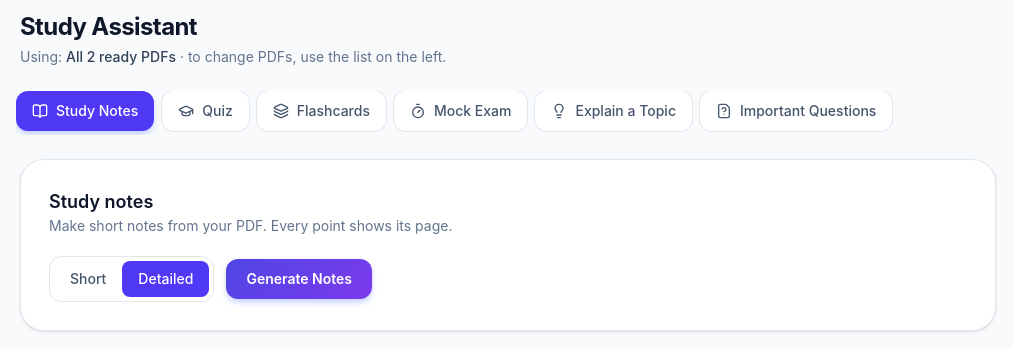
Test: Study page › shows the six simple study tools and switches between them
The image size is (1013, 349).
Check: the heading "Study notes" is shown, box [49, 191, 153, 212]
Check: the button "Study Notes" is shown, box [16, 91, 154, 131]
Click the button "Quiz" at (205, 111), box [162, 91, 249, 131]
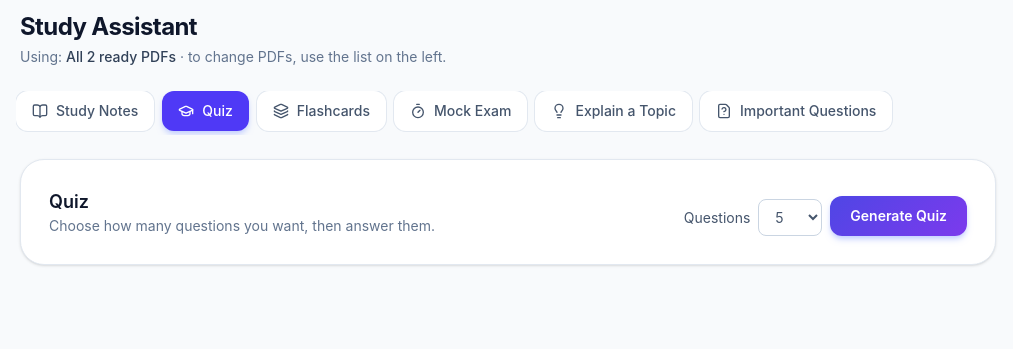
Check: the heading "Quiz" is shown, box [49, 191, 89, 212]
